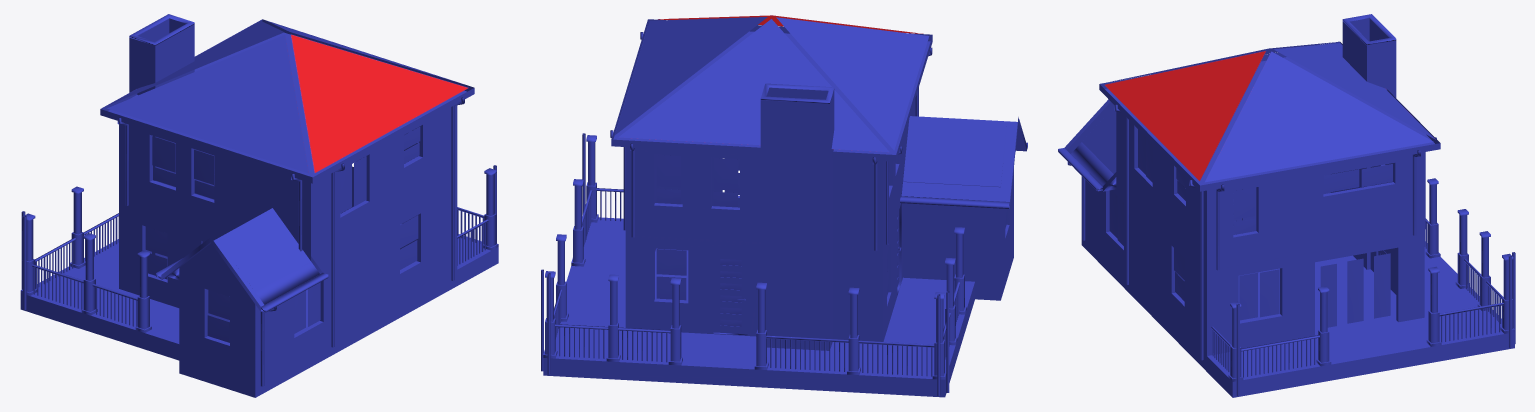
The model's file is 247_House 15_obj.glb.
3 renders of one model, left to right at view 1: azimuth 30°, elevation 25°; view 2: azimuth 150°, elevation 25°; view 3: azimuth 270°, elevation 25°, orthographic. The views are drawn at different scales.
Visible parts, largest first — view 1: mesh_id8, mesh_id12, mesh_id4, mesh_id10, mesh_id88, mesh_id11, mesh_id6, mesh_id9, mesh_id93, mesh_id92, mesh_id80, mesh_id76 (+8 smaller); view 2: mesh_id8, mesh_id10, mesh_id12, mesh_id9, mesh_id4, mesh_id88, mesh_id11, mesh_id6, mesh_id24, mesh_id25, mesh_id30, mesh_id60 (+2 smaller); view 3: mesh_id8, mesh_id4, mesh_id12, mesh_id10, mesh_id88, mesh_id6, mesh_id9, mesh_id11, mesh_id36, mesh_id38, mesh_id34, mesh_id32 (+7 smaller).
Boxes of the visible parts, box(x1,y1,x2,y2) form: mesh_id8: box(107, 20, 468, 173); mesh_id12: box(119, 154, 457, 381); mesh_id4: box(119, 105, 457, 260); mesh_id10: box(20, 234, 498, 397); mesh_id88: box(20, 168, 498, 332); mesh_id11: box(156, 208, 328, 312); mesh_id6: box(100, 19, 474, 183); mesh_id9: box(129, 14, 194, 266); mesh_id93: box(451, 97, 464, 281); mesh_id92: box(331, 163, 344, 347); mesh_id80: box(152, 136, 175, 172); mesh_id76: box(194, 149, 213, 184); mesh_id8: box(615, 15, 929, 152); mesh_id10: box(543, 217, 1013, 397); mesh_id12: box(625, 129, 1013, 341); mesh_id9: box(760, 83, 834, 350); mesh_id4: box(625, 98, 915, 249); mesh_id88: box(543, 135, 966, 379); mesh_id11: box(900, 116, 1027, 208); mesh_id6: box(611, 19, 932, 161); mesh_id24: box(711, 251, 749, 335); mesh_id25: box(720, 259, 741, 326); mesh_id30: box(656, 249, 686, 275); mesh_id60: box(714, 158, 738, 190); mesh_id8: box(1104, 42, 1435, 182); mesh_id4: box(1116, 111, 1424, 270); mesh_id12: box(1081, 172, 1424, 355); mesh_id10: box(1081, 229, 1514, 397); mesh_id88: box(1211, 178, 1514, 381); mesh_id6: box(1099, 41, 1440, 191); mesh_id9: box(1342, 14, 1396, 269); mesh_id11: box(1058, 99, 1116, 191); mesh_id36: box(1374, 253, 1390, 318); mesh_id38: box(1347, 258, 1363, 323); mesh_id34: box(1260, 269, 1279, 317); mesh_id32: box(1239, 272, 1257, 320).
Size of the model in its own units: 0.683 by 0.4174 by 0.6748.
Materials: 102 (102 with a texture image).
